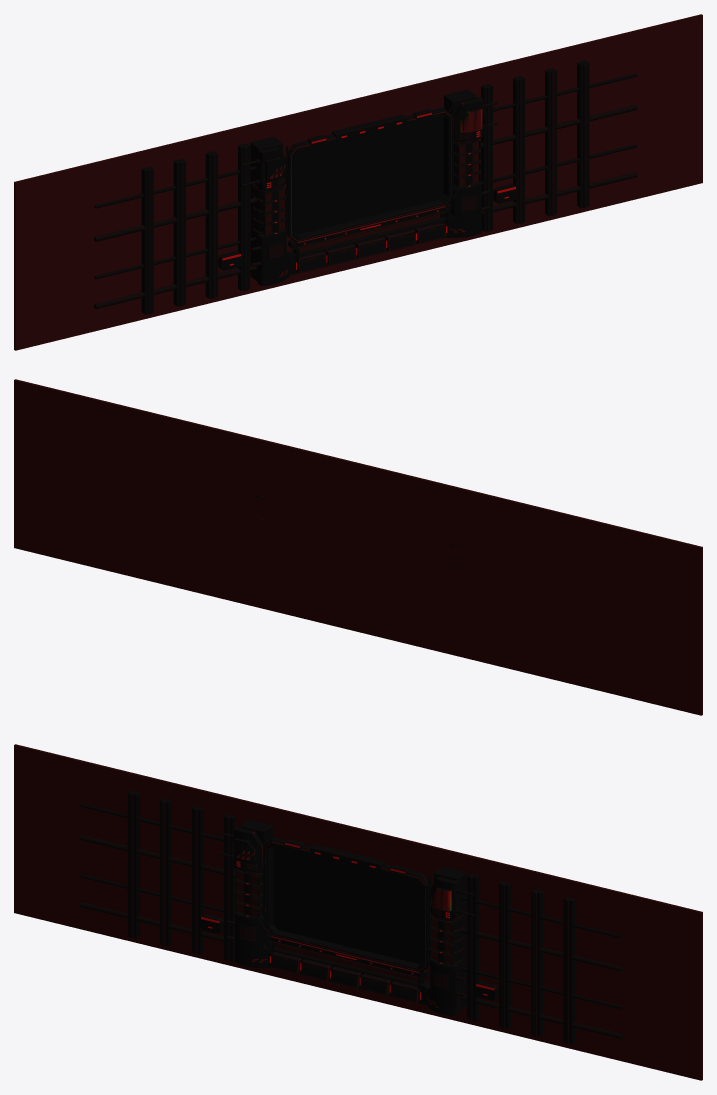
The model's file is menu_frame.glb.
The picture shows the model from 3 angles, top to bottom: view 1: azimuth 30°, elevation 25°; view 2: azimuth 150°, elevation 25°; view 3: azimuth 330°, elevation 25°; orthographic projection.
Visible parts, largest first — view 1: back_wall, screen_glass, bezel_outer, beam_1_3, beam_-1_3, beam_-1_2, bezel_slope, beam_-1_1, beam_1_1, beam_-1_0, beam_1_2, armour_low_R (+24 smaller); view 2: back_wall; view 3: back_wall, screen_glass, bezel_outer, beam_-1_3, beam_1_3, beam_1_2, bezel_slope, beam_1_1, beam_-1_1, beam_1_0, beam_-1_2, armour_low_L (+24 smaller).
Boxes of the visible parts, x1,y1,x2,y2 form: back_wall: (14, 14, 702, 350); screen_glass: (293, 114, 443, 234); bezel_outer: (286, 107, 452, 242); beam_1_3: (577, 60, 589, 208); beam_-1_3: (141, 167, 153, 314); beam_-1_2: (173, 159, 185, 306); bezel_slope: (293, 113, 448, 238); beam_-1_1: (205, 151, 217, 298); beam_1_1: (513, 76, 524, 223); beam_-1_0: (238, 143, 249, 290); beam_1_2: (545, 68, 556, 215); armour_low_R: (446, 182, 481, 237); back_wall: (14, 379, 702, 715); back_wall: (14, 744, 702, 1080); screen_glass: (273, 844, 423, 964); bezel_outer: (264, 837, 430, 972); beam_-1_3: (127, 790, 139, 938); beam_1_3: (563, 897, 575, 1044); beam_1_2: (531, 889, 543, 1036); bezel_slope: (268, 843, 423, 968); beam_1_1: (499, 881, 511, 1028); beam_-1_1: (192, 806, 203, 953); beam_1_0: (467, 873, 478, 1020); beam_-1_2: (160, 798, 171, 945); armour_low_L: (235, 912, 270, 967).
Bounding box in the file's own units: 60 × 14 × 2.76.
